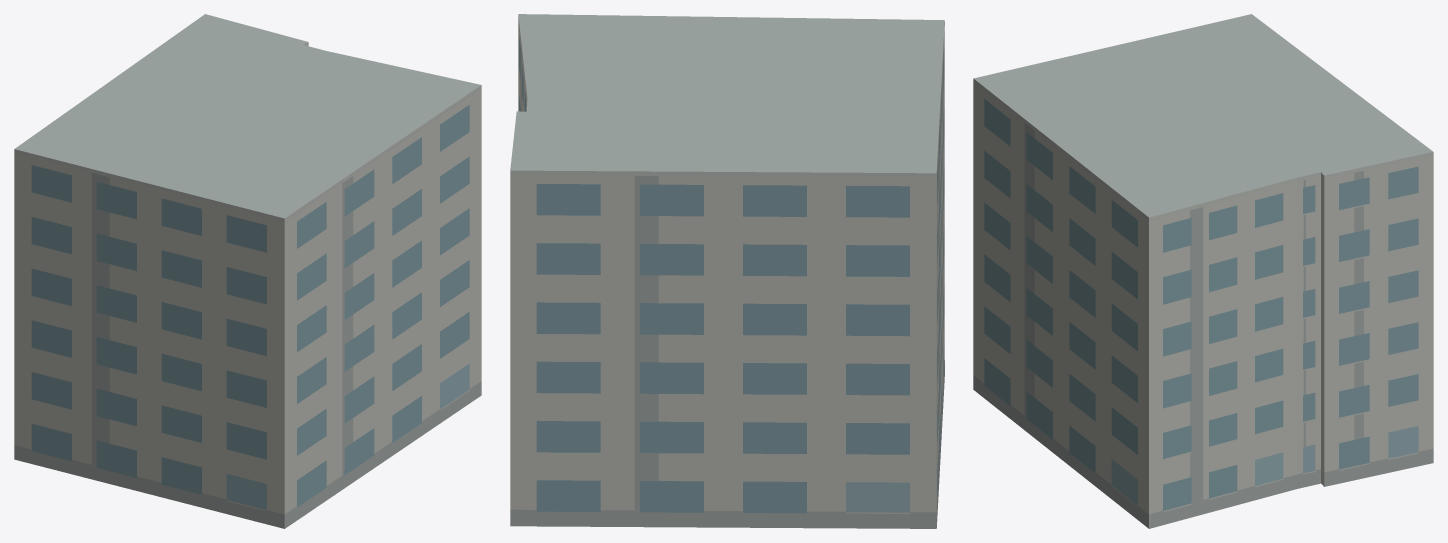
The model's file is survey-upis-32676625.glb.
The picture shows the model from 3 angles, left to right: view 1: azimuth 30°, elevation 25°; view 2: azimuth 150°, elevation 25°; view 3: azimuth 270°, elevation 25°; orthographic projection. The views are drawn at different scales.
Parts seen in each view (by area): view 1: survey-upis-32676625.tmp; view 2: survey-upis-32676625.tmp; view 3: survey-upis-32676625.tmp.
Part boxes in pixels (x1,y1,x2,y2): survey-upis-32676625.tmp: [14, 14, 481, 528]; survey-upis-32676625.tmp: [510, 14, 944, 528]; survey-upis-32676625.tmp: [973, 14, 1433, 528].
Bounding box in the file's own units: 27.51 × 19.6 × 26.27.
